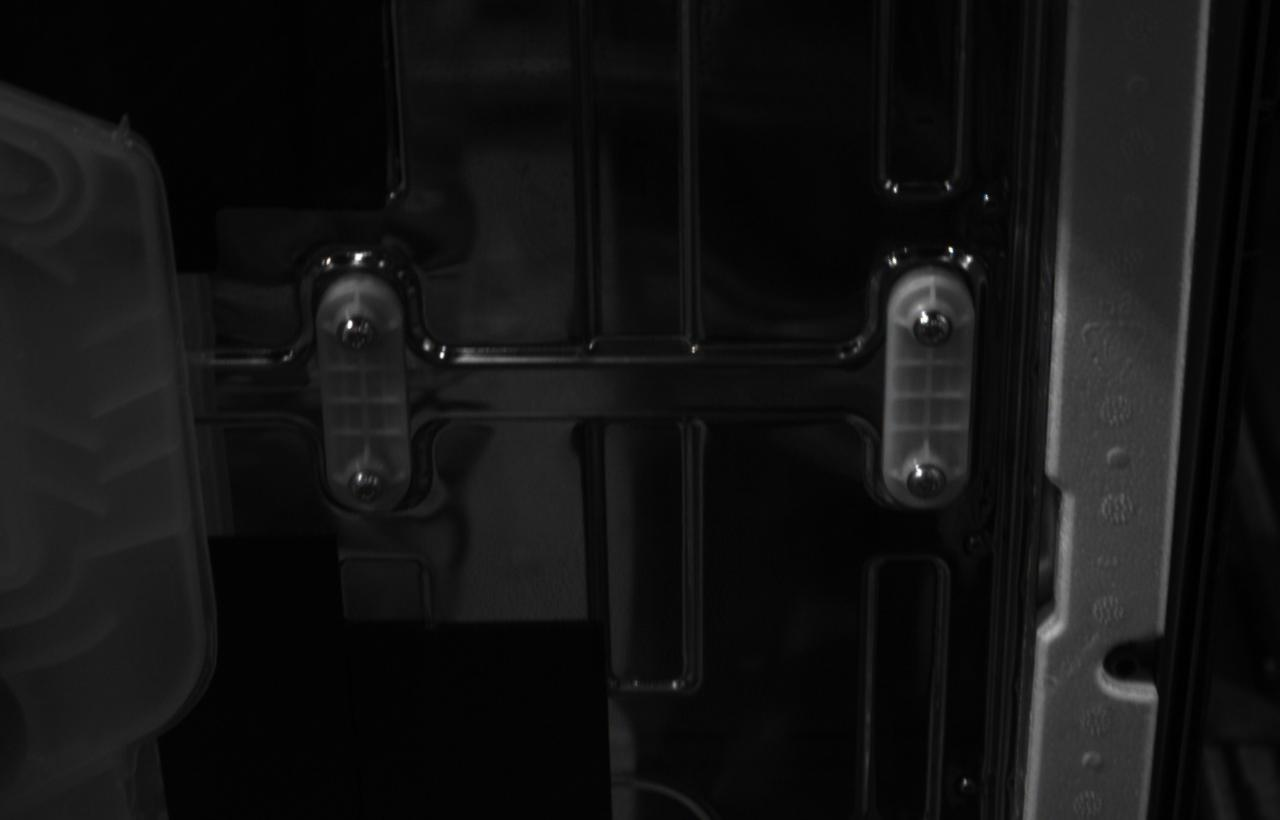vida-ok: (907, 463, 947, 500), (912, 311, 952, 348), (335, 316, 375, 352), (348, 469, 385, 505)
